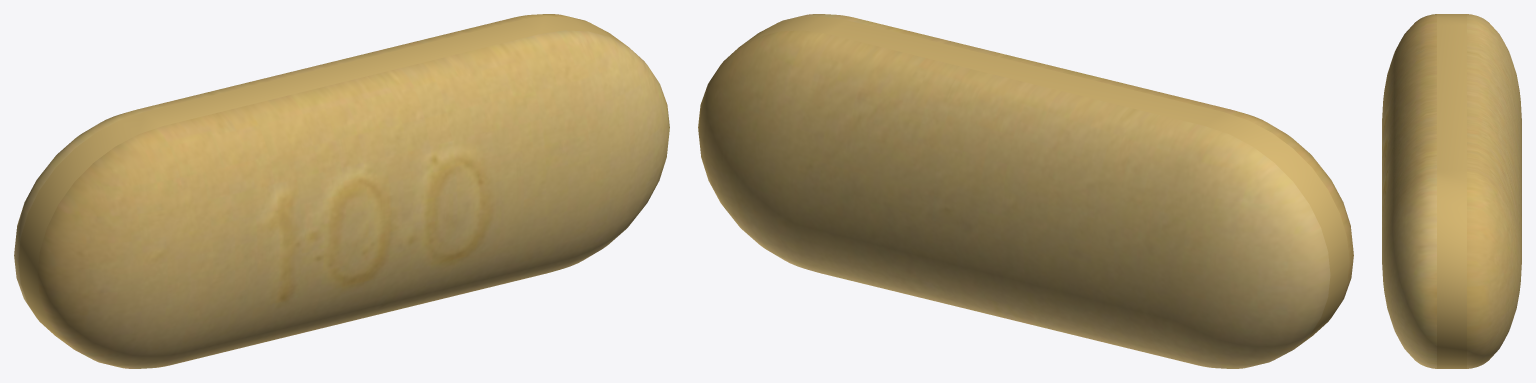
File: 20170323GOPHDRGPT24823.fbx
3 views of the same model, side by side, from view 1: azimuth 30°, elevation 25°; view 2: azimuth 150°, elevation 25°; view 3: azimuth 270°, elevation 25° (orthographic). The views are drawn at different scales.
Visible parts, largest first — view 1: 球體.000; view 2: 球體.000; view 3: 球體.000.
Boxes of the visible parts, bbox=[...] form: 球體.000: bbox=[14, 14, 669, 368]; 球體.000: bbox=[698, 14, 1353, 368]; 球體.000: bbox=[1382, 14, 1521, 368].
Bounding box in the file's own units: 1.9 × 0.6844 × 0.4637.
1 material, 1 textured.
